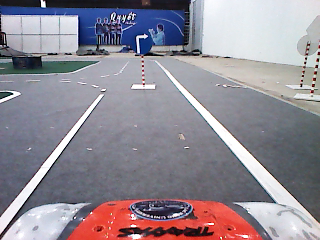turn: (130, 30, 154, 56)
